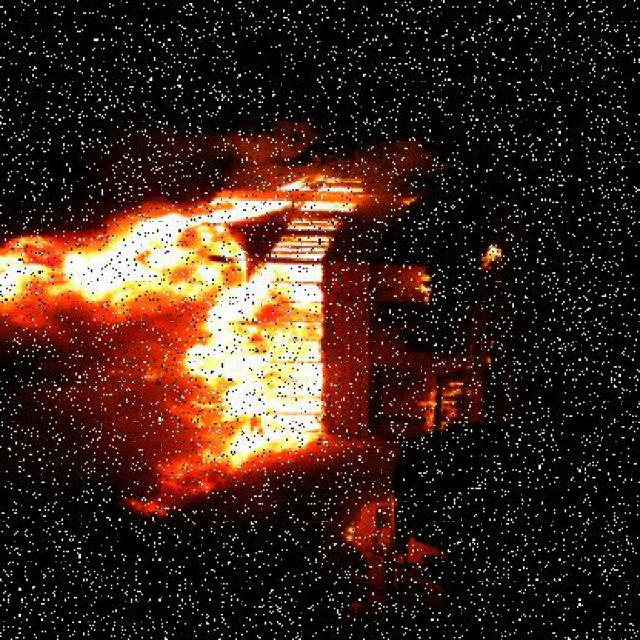fire: (1, 162, 364, 537)
